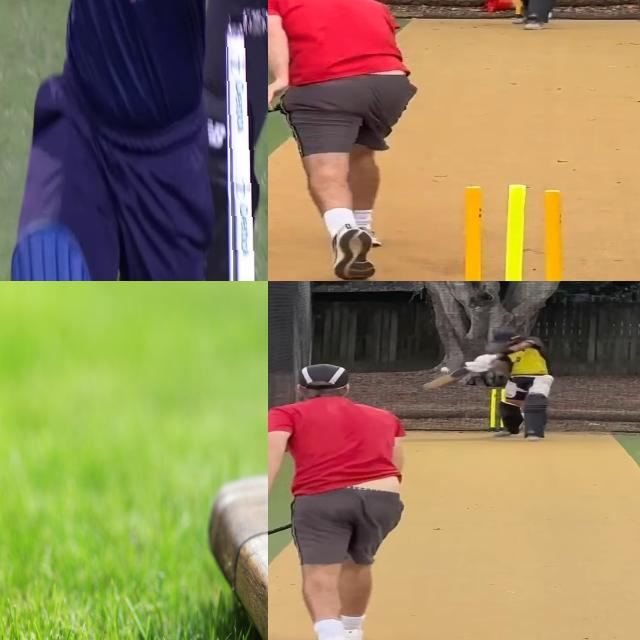Cricket ball: (438, 364, 453, 375)
Stumps: (442, 181, 579, 281), (224, 0, 268, 281)
